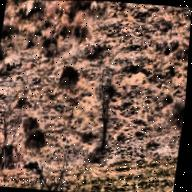boar: (50, 62, 95, 96), (24, 128, 54, 153), (20, 111, 40, 125)
